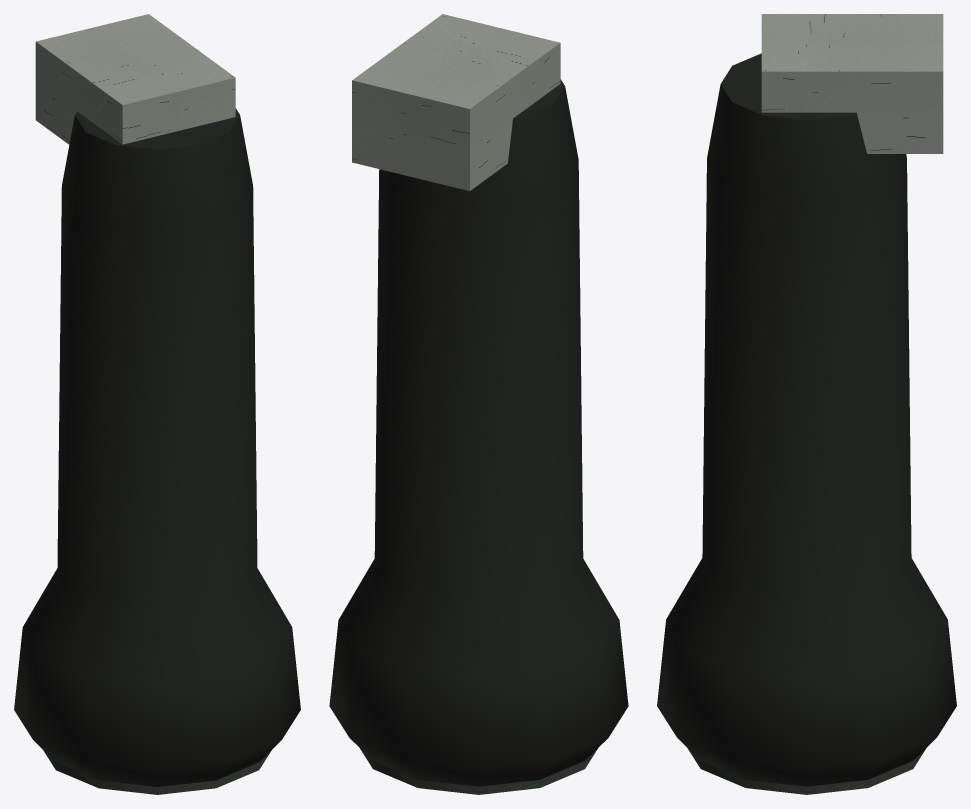
File: SM_FieldKit_Handset.glb
3 views of the same model, side by side, from view 1: azimuth 30°, elevation 25°; view 2: azimuth 150°, elevation 25°; view 3: azimuth 270°, elevation 25° (orthographic). The views are drawn at different scales.
Visible parts, largest first — view 1: SM_FieldKit_Handset; view 2: SM_FieldKit_Handset; view 3: SM_FieldKit_Handset.
Part boxes in pixels (left/top/right/bottom): SM_FieldKit_Handset: left=14, top=14, right=300, bottom=794; SM_FieldKit_Handset: left=329, top=14, right=628, bottom=794; SM_FieldKit_Handset: left=657, top=14, right=956, bottom=794.
Size of the model in its own units: 0.066 by 0.172 by 0.066.
Materials: 3 (1 with a texture image).
